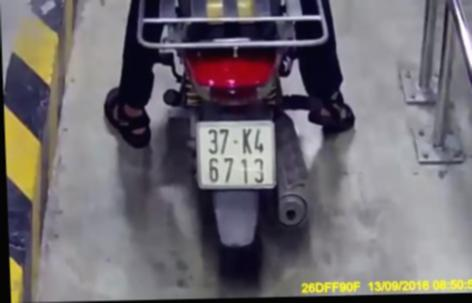License_Plate: (192, 119, 280, 194)
